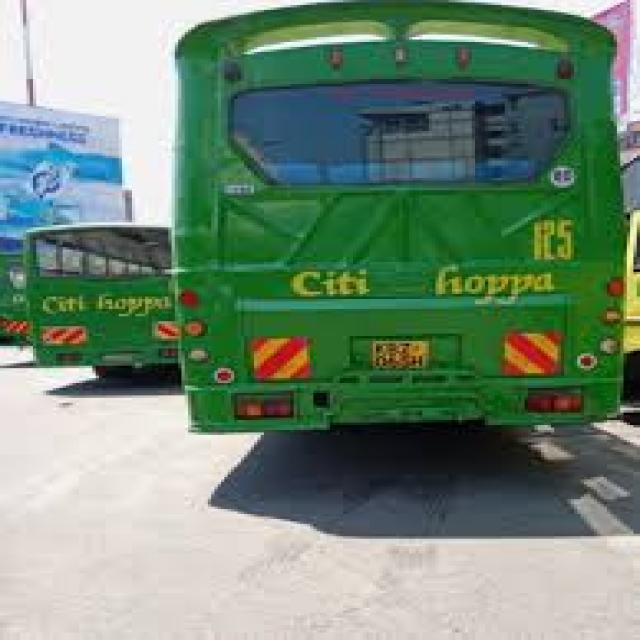bus: (165, 0, 640, 463)
